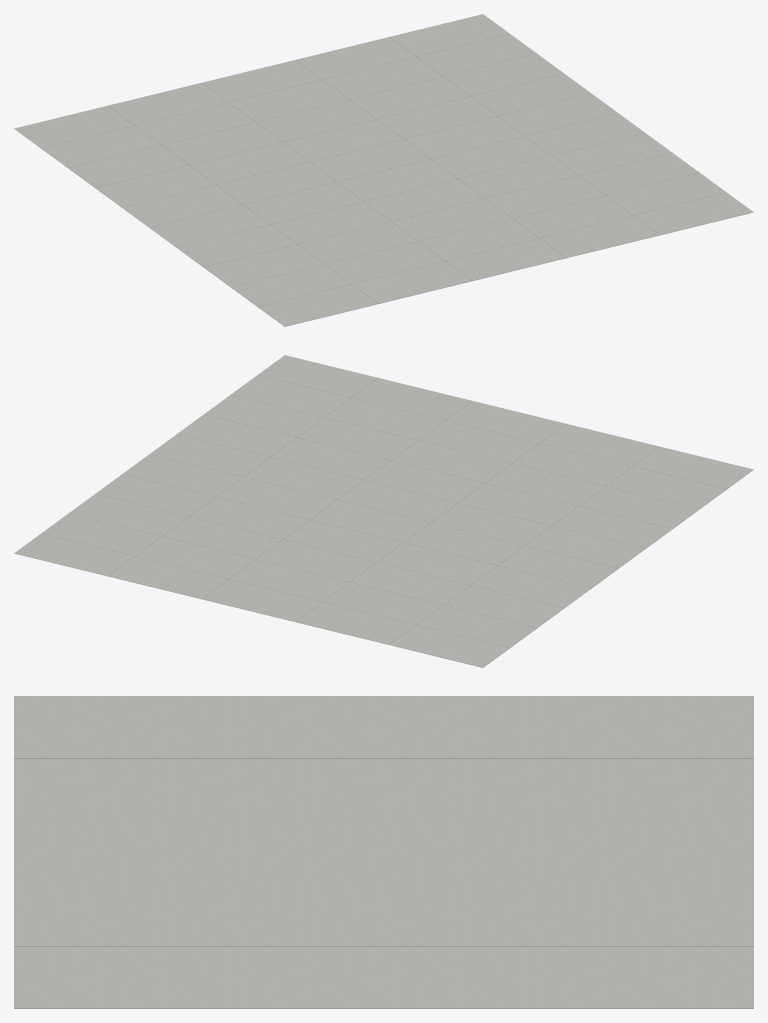
The model's file is cemento-grey-80x160.glb.
The picture shows the model from 3 angles, top to bottom: view 1: azimuth 30°, elevation 25°; view 2: azimuth 150°, elevation 25°; view 3: azimuth 270°, elevation 25°; orthographic projection. The views are drawn at different scales.
Visible parts, largest first — view 1: Cemento Grey; view 2: Cemento Grey; view 3: Cemento Grey.
Part boxes in pixels (x1=…): Cemento Grey: x1=14, y1=14, x2=753, y2=326; Cemento Grey: x1=14, y1=355, x2=753, y2=667; Cemento Grey: x1=14, y1=696, x2=753, y2=1008.
Bounding box in the file's own units: 8 × 0.003 × 8.
2 materials, 1 textured.
